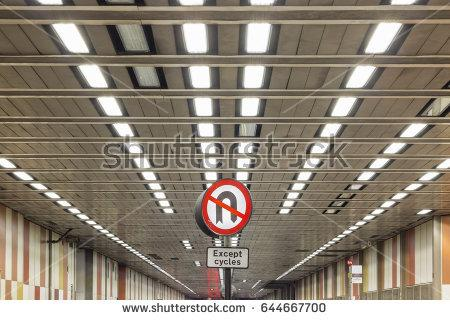no_u_turn: (201, 178, 251, 235)
